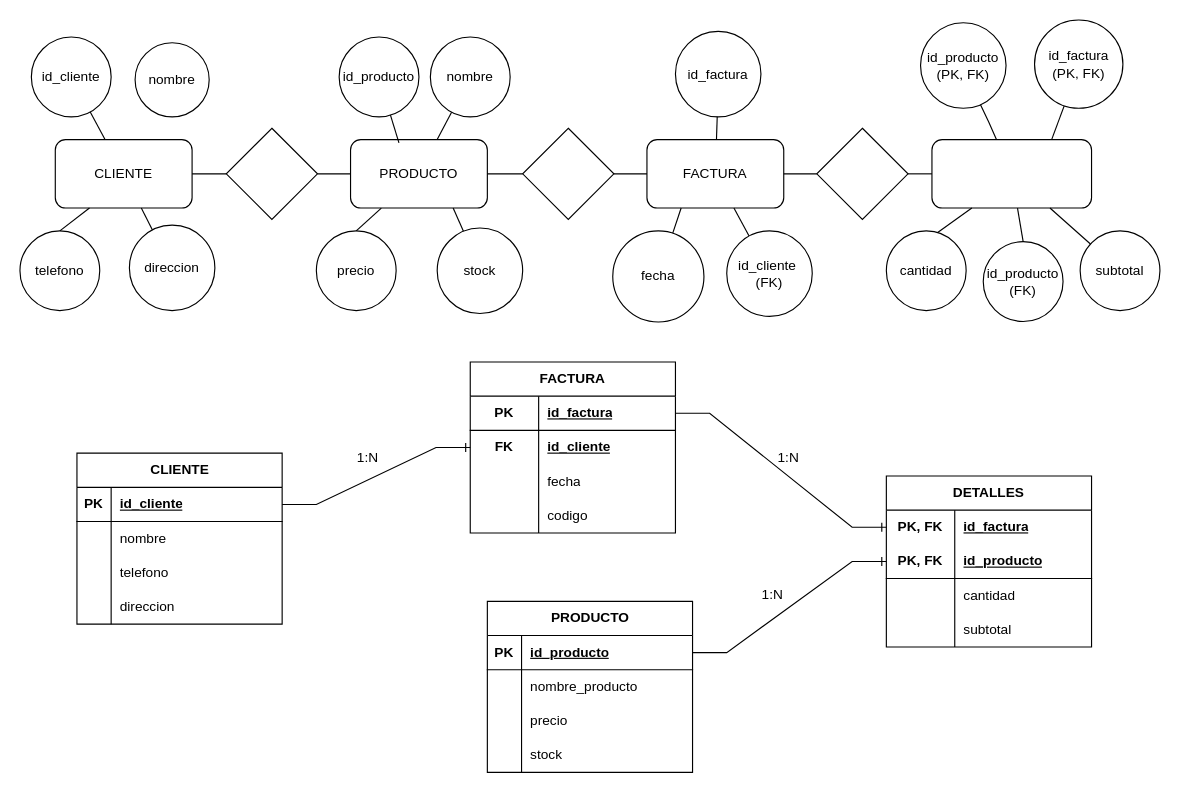
The diagram is 1180 pixels wide and 792 high, and some of its shapes have lost their labels. Here are the shapes that lost their labels. From the top down, the centre of each, then its label:
the point at 271,173: adquiere
the point at 568,173: obtiene
the point at 862,173: resultado
the point at 1011,173: DETALLES_FACTURA
